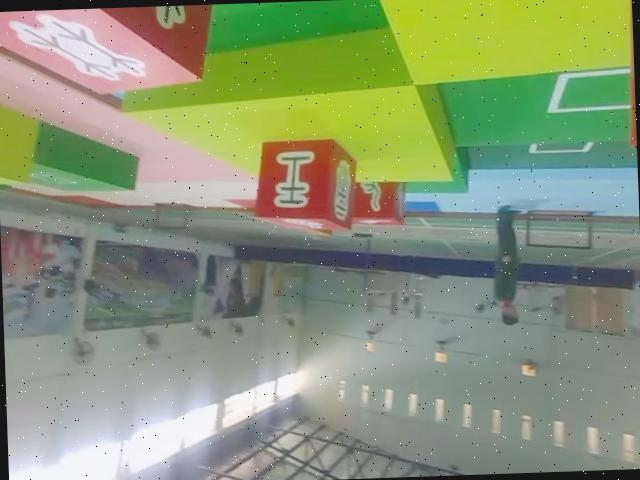R2 Fake: (250, 134, 361, 235)
R2 Real: (0, 3, 228, 101), (346, 175, 407, 228)
